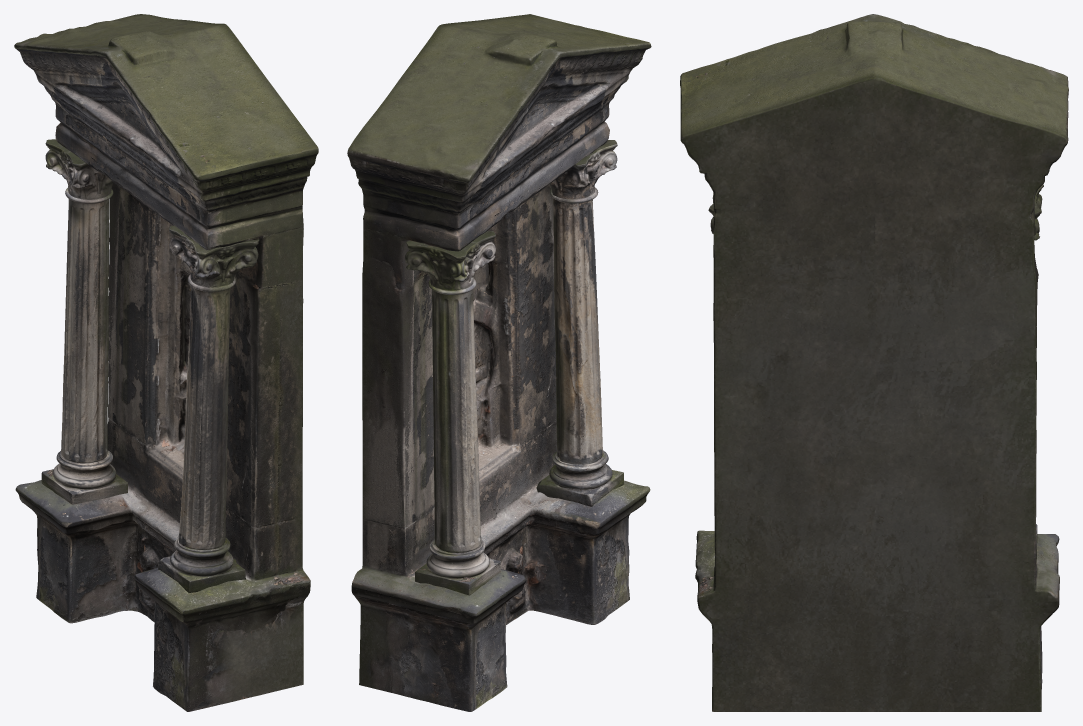
Rendered from sm_Grave_03_01.fbx.
3 views of the same model, side by side, from view 1: azimuth 30°, elevation 25°; view 2: azimuth 150°, elevation 25°; view 3: azimuth 270°, elevation 25° (orthographic). The views are drawn at different scales.
Parts seen in each view (by area): view 1: sm_Grave_03_01_LOD0; view 2: sm_Grave_03_01_LOD0; view 3: sm_Grave_03_01_LOD0.
Boxes of the visible parts, box(x1,y1,x2,y2) form: sm_Grave_03_01_LOD0: box(14, 14, 318, 711); sm_Grave_03_01_LOD0: box(347, 14, 651, 711); sm_Grave_03_01_LOD0: box(680, 14, 1068, 711).
Bounding box in the file's own units: 75.05 × 186 × 337.
